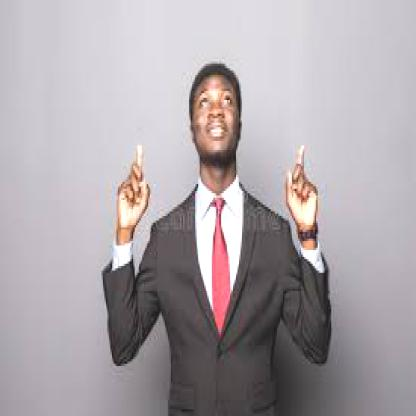Up: (274, 134, 324, 246), (111, 130, 155, 233)
